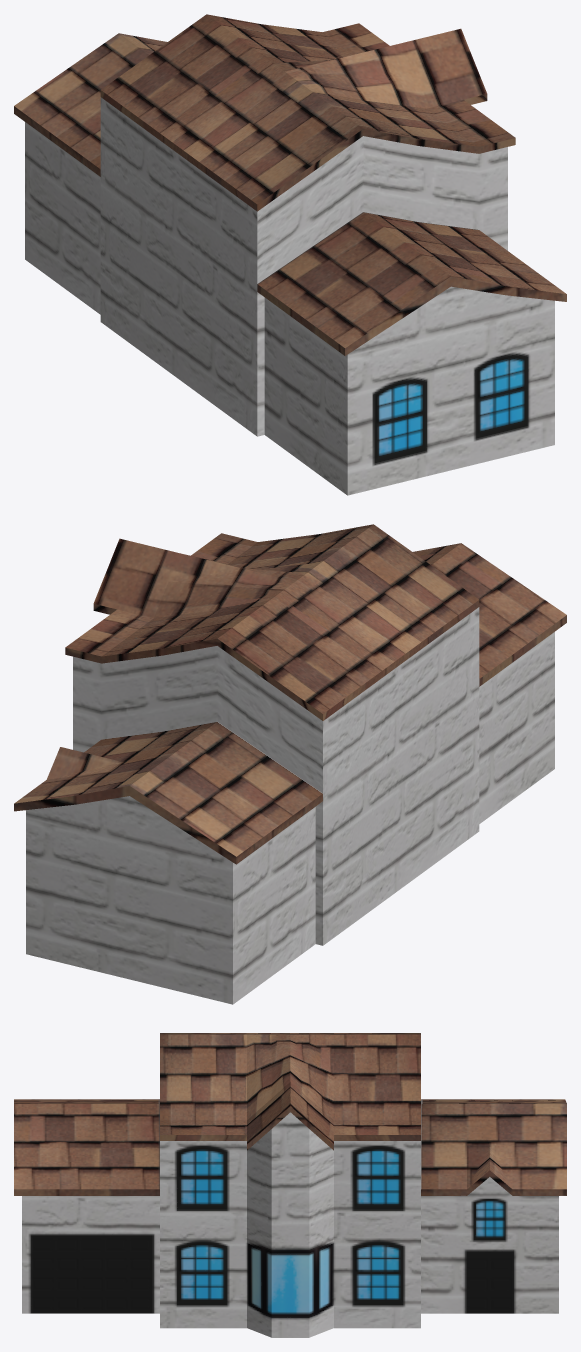
File: Suburbs_House1.fbx
3 renders of one model, top to bottom at view 1: azimuth 30°, elevation 25°; view 2: azimuth 150°, elevation 25°; view 3: azimuth 270°, elevation 25°, orthographic. The views are drawn at different scales.
Parts seen in each view (by area): view 1: Cube; view 2: Cube; view 3: Cube.
Part boxes in pixels (left/top/right/bottom): Cube: left=14, top=14, right=566, bottom=495; Cube: left=14, top=524, right=566, bottom=1004; Cube: left=14, top=1033, right=566, bottom=1337.
Bounding box in the file's own units: 160 × 153 × 327.
